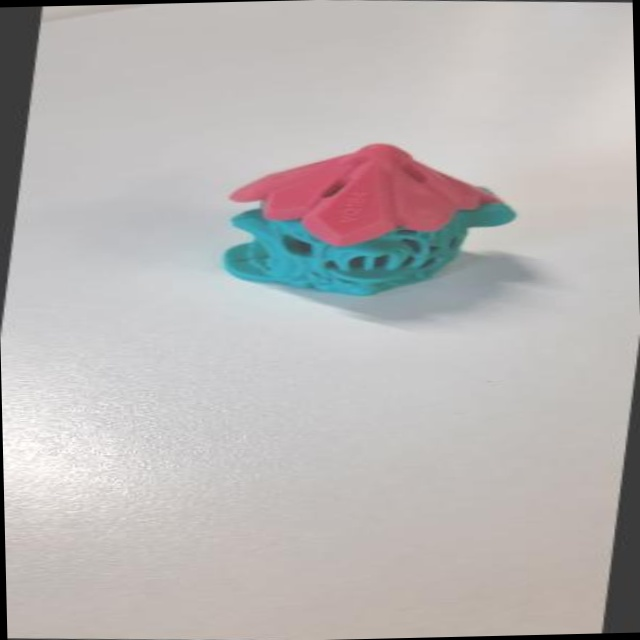House: (181, 114, 566, 354)
